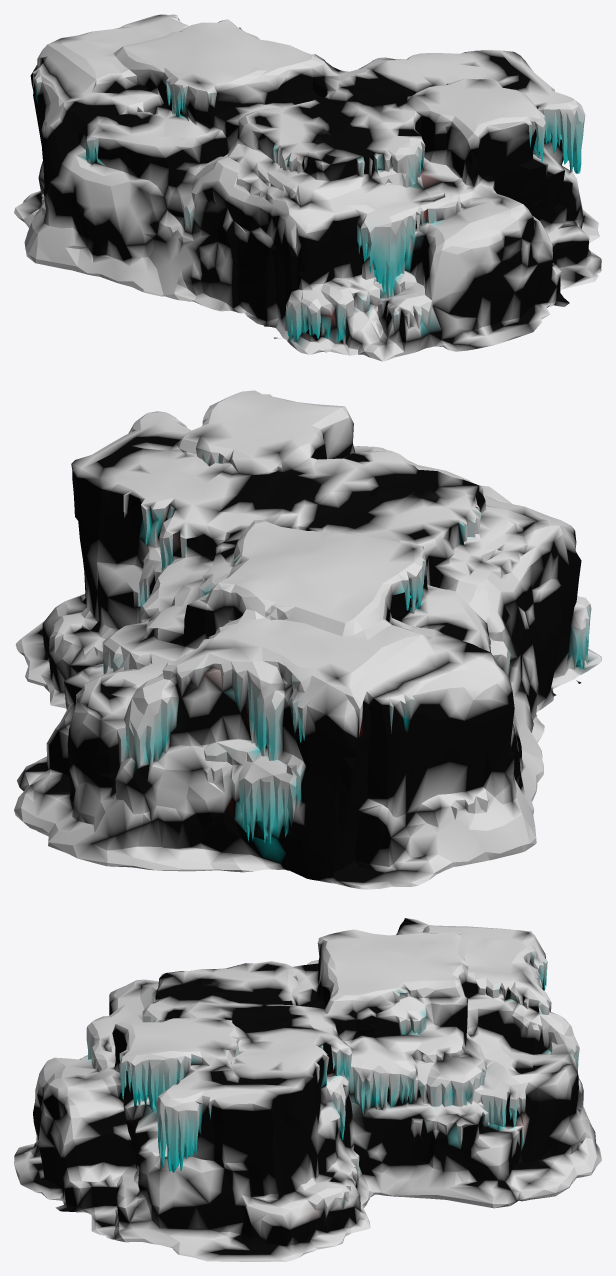
Rendered from CliffIce2_5.fbx.
3 renders of one model, top to bottom at view 1: azimuth 30°, elevation 25°; view 2: azimuth 150°, elevation 25°; view 3: azimuth 270°, elevation 25°, orthographic. The views are drawn at different scales.
Parts seen in each view (by area): view 1: CliffIce2_5_LOD0; view 2: CliffIce2_5_LOD0; view 3: CliffIce2_5_LOD0.
Part boxes in pixels (x1,y1,x2,y2): CliffIce2_5_LOD0: (14,14,601,361); CliffIce2_5_LOD0: (14,390,601,889); CliffIce2_5_LOD0: (14,918,601,1261).
Size of what is drawn, in the model's own units: 1620 by 576 by 1816.
